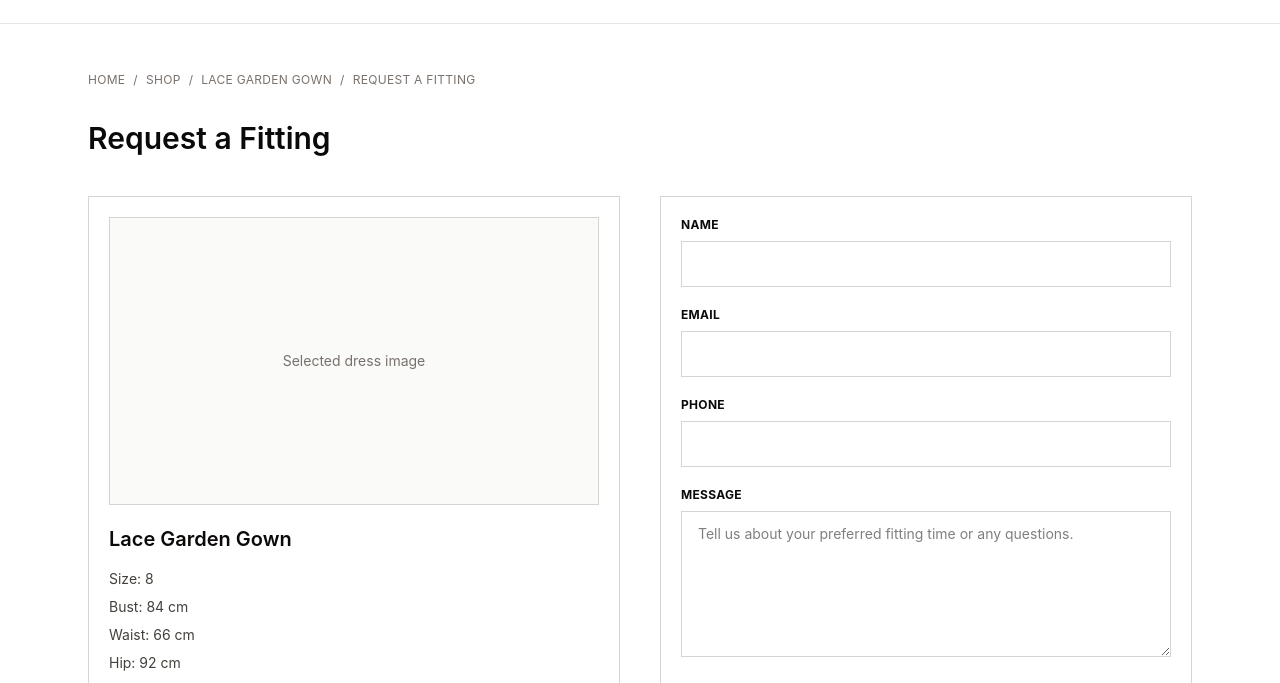
Scenario: RequestFittingPage › shows a success message when the form is valid
The width and height of the screenshot is (1280, 683).
Type "Jane Bride" into the field labelled "Name" at x=926, y=264, box [681,241,1171,287]
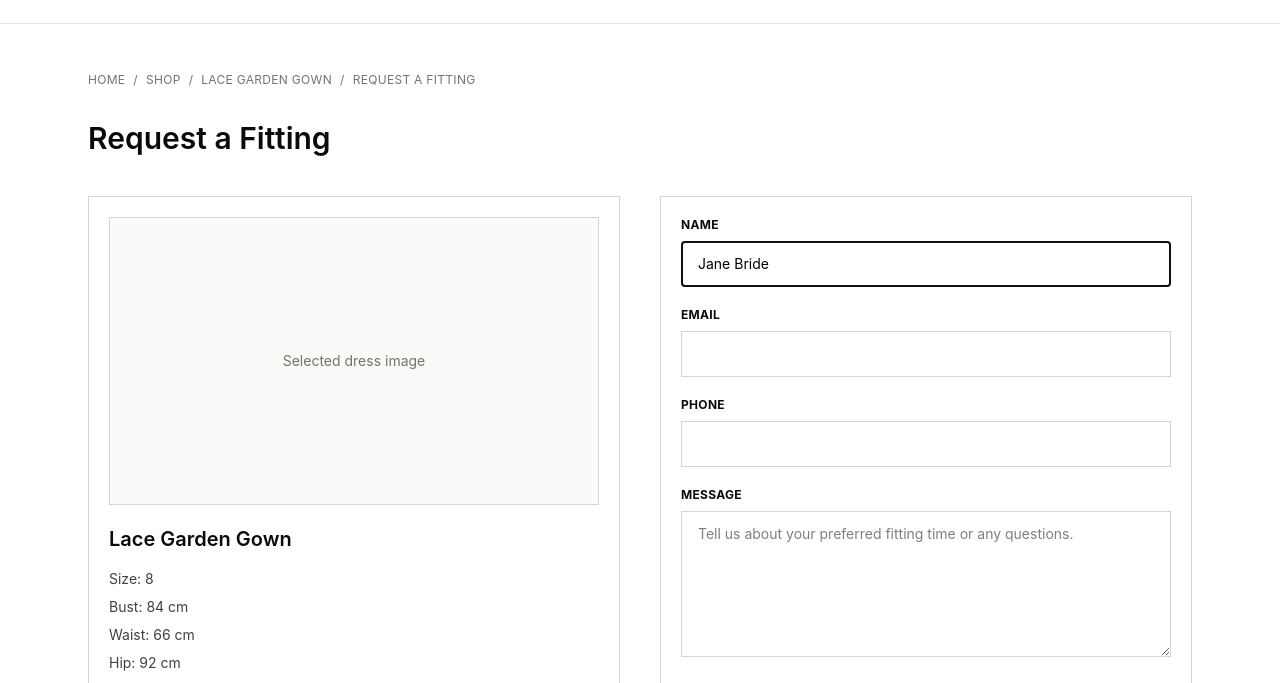
Type "jane@example.com" into the field labelled "Email" at x=926, y=354, box [681,331,1171,377]
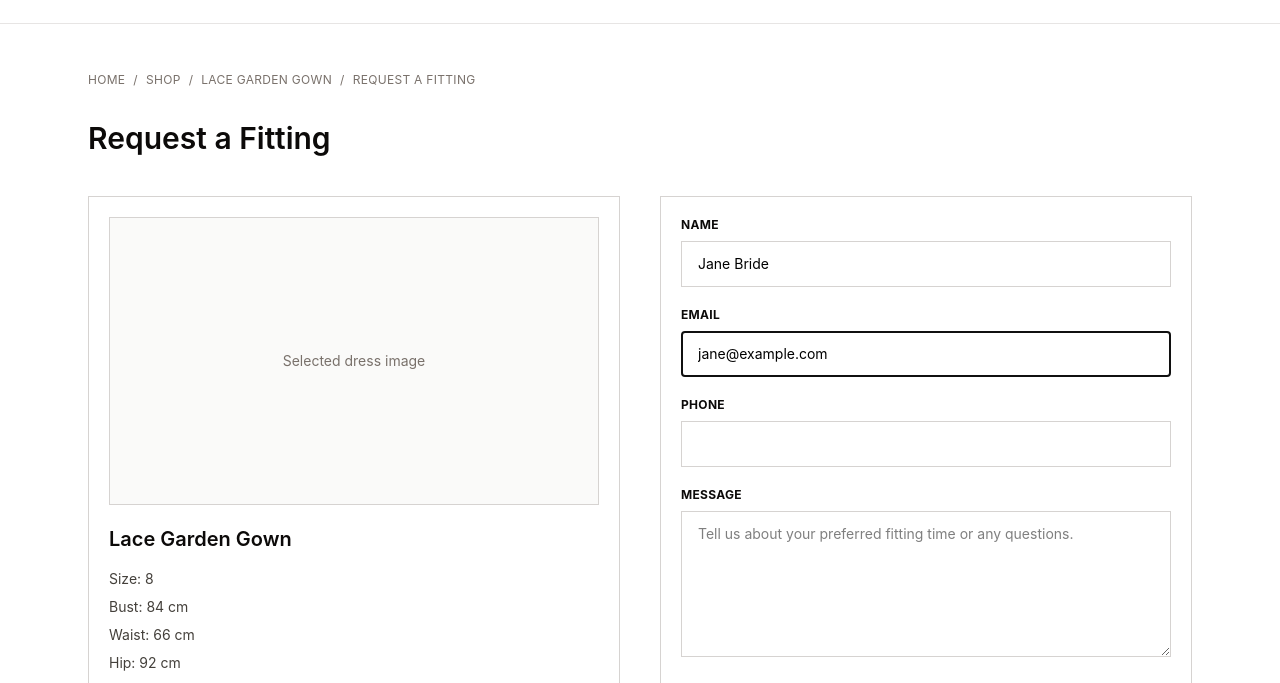
Type "+64 21 123 4567" into the field labelled "Phone" at x=926, y=444, box [681,421,1171,467]
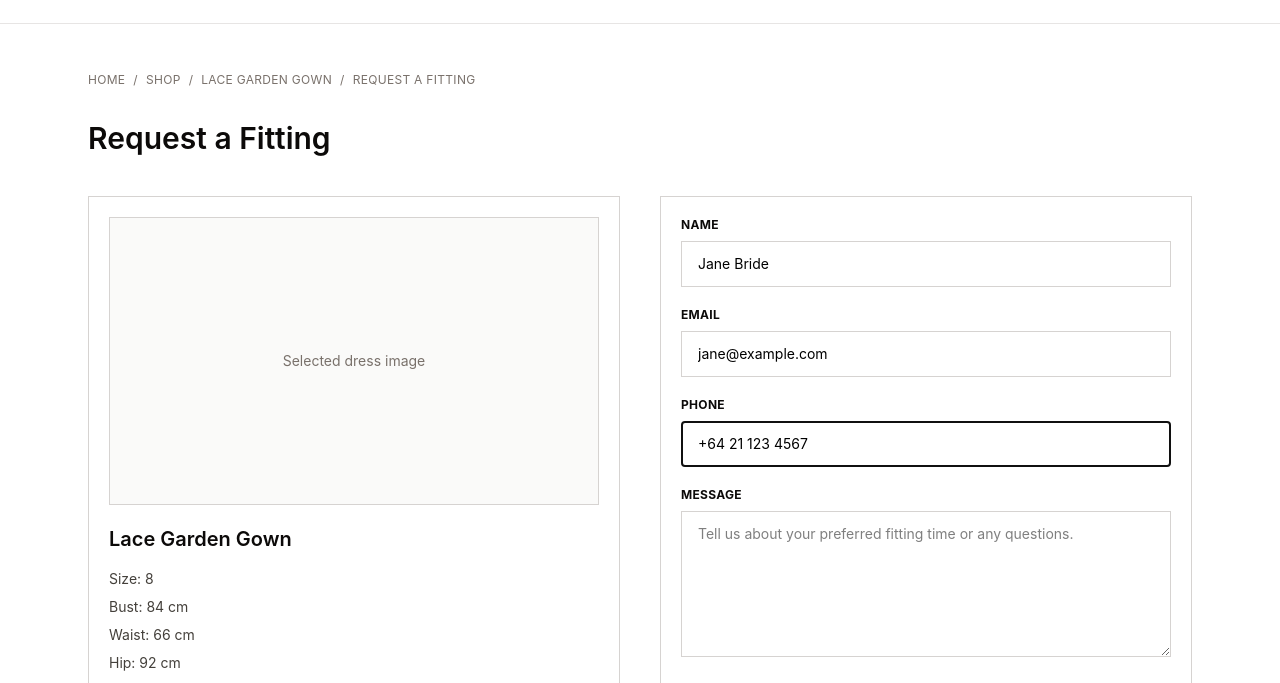
Type "I would like to request a fitting." into the text box labelled "Message" at x=926, y=584, box [681,511,1171,657]
(page scrolled)
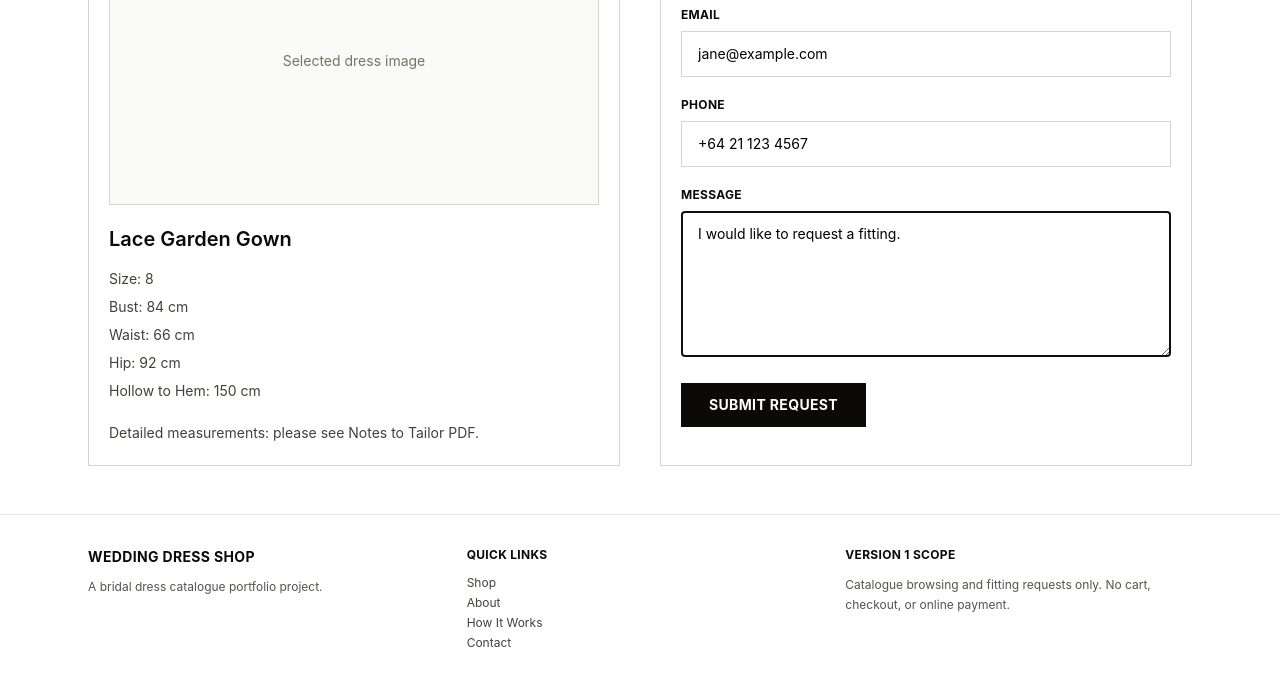
Click the button "Submit Request" at x=774, y=405, box [681,383,866,427]
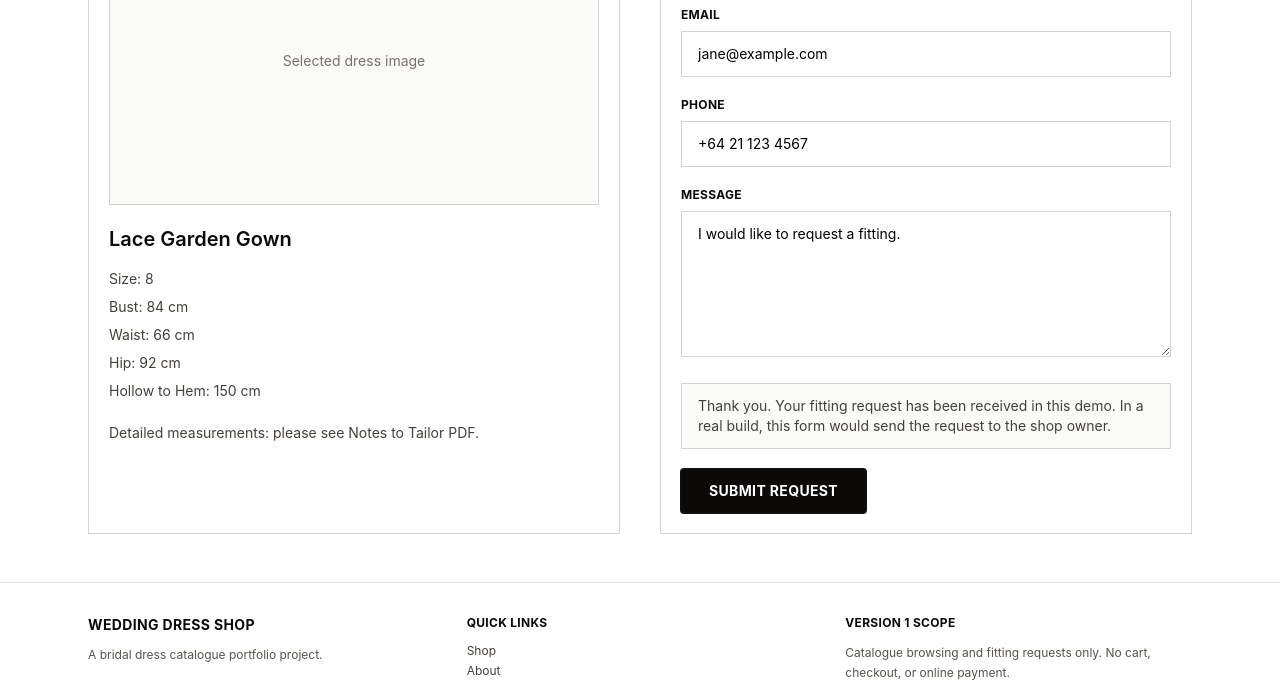
expect the text "Your fitting request has been received" is shown: met, box [698,397,1144,434]
